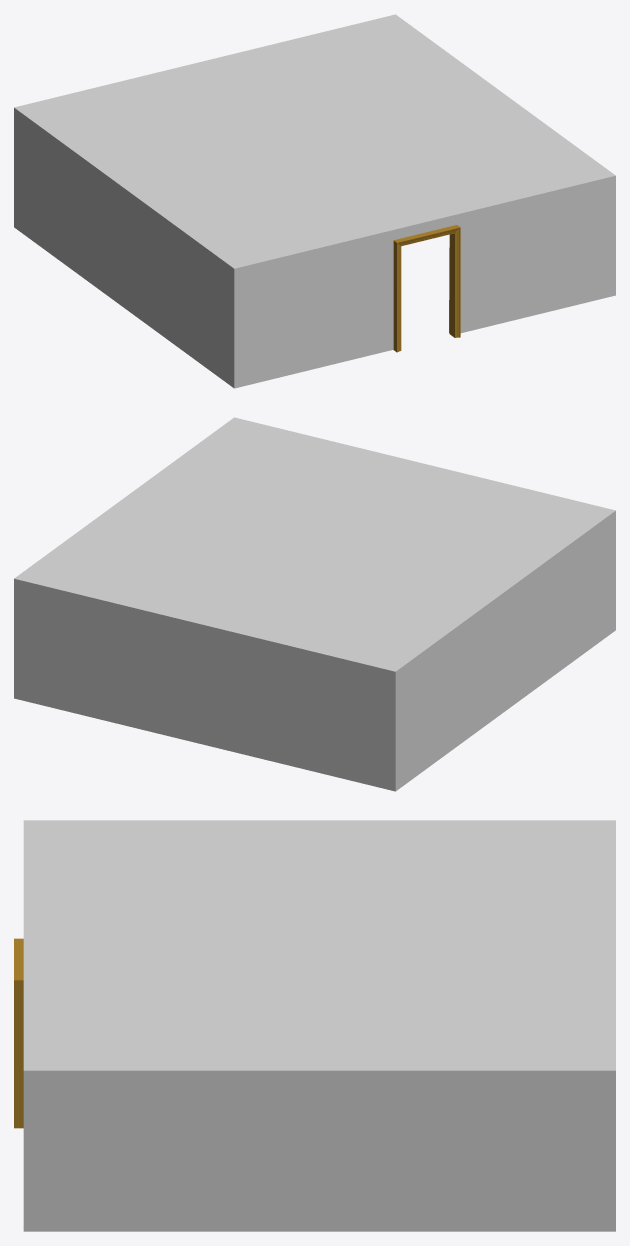
File: archimeshattempt7.fbx
3 renders of one model, top to bottom at view 1: azimuth 30°, elevation 25°; view 2: azimuth 150°, elevation 25°; view 3: azimuth 270°, elevation 25°, orthographic. The views are drawn at different scales.
Parts seen in each view (by area): view 1: Ceiling, Room, Cube.010; view 2: Ceiling, Room; view 3: Ceiling, Room, Cube.010.
Part boxes in pixels (box(x1,y1,x2,y2)): Ceiling: box(16, 14, 613, 267); Room: box(14, 14, 615, 388); Cube.010: box(393, 225, 460, 352); Ceiling: box(16, 418, 614, 671); Room: box(14, 417, 615, 791); Ceiling: box(23, 820, 615, 1070); Room: box(23, 820, 615, 1231); Cube.010: box(14, 938, 23, 1128).
Bounding box in the file's own units: 800 × 241 × 813.
